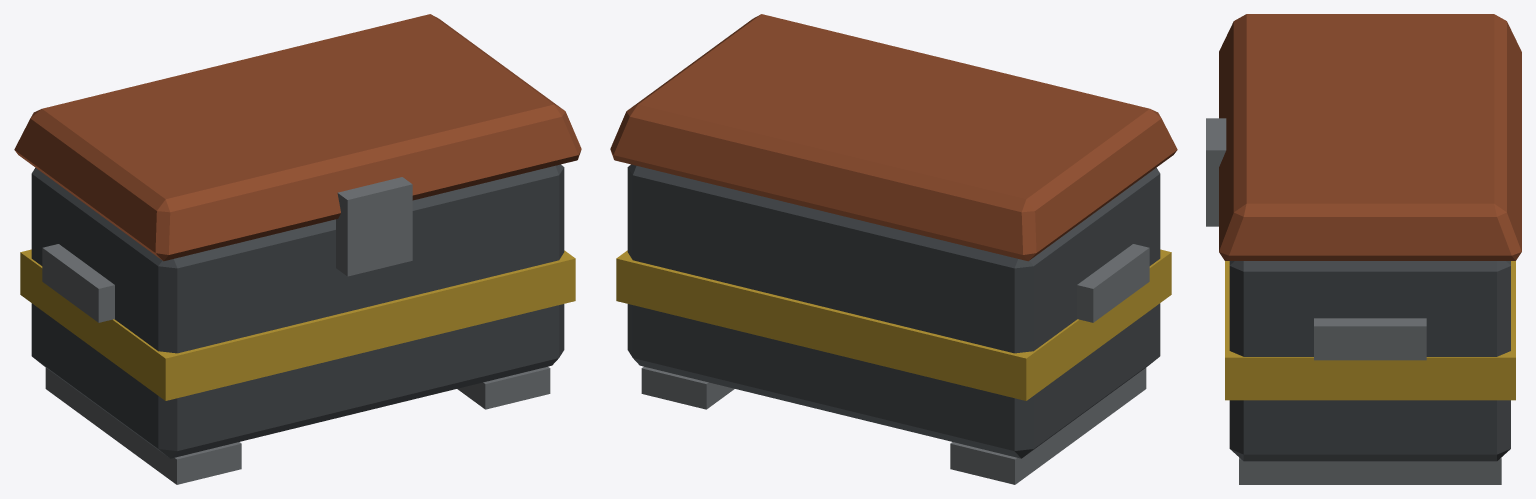
File: loot_crate.glb
The picture shows the model from 3 angles, left to right: view 1: azimuth 30°, elevation 25°; view 2: azimuth 150°, elevation 25°; view 3: azimuth 270°, elevation 25°; orthographic projection.
Visible parts, largest first — view 1: loot_crate_mesh; view 2: loot_crate_mesh; view 3: loot_crate_mesh.
Boxes of the visible parts, x1,y1,x2,y2 form: loot_crate_mesh: (14, 14, 581, 484); loot_crate_mesh: (610, 14, 1177, 484); loot_crate_mesh: (1206, 14, 1521, 484).
Bounding box in the file's own units: 1.12 × 0.67 × 0.6728.
